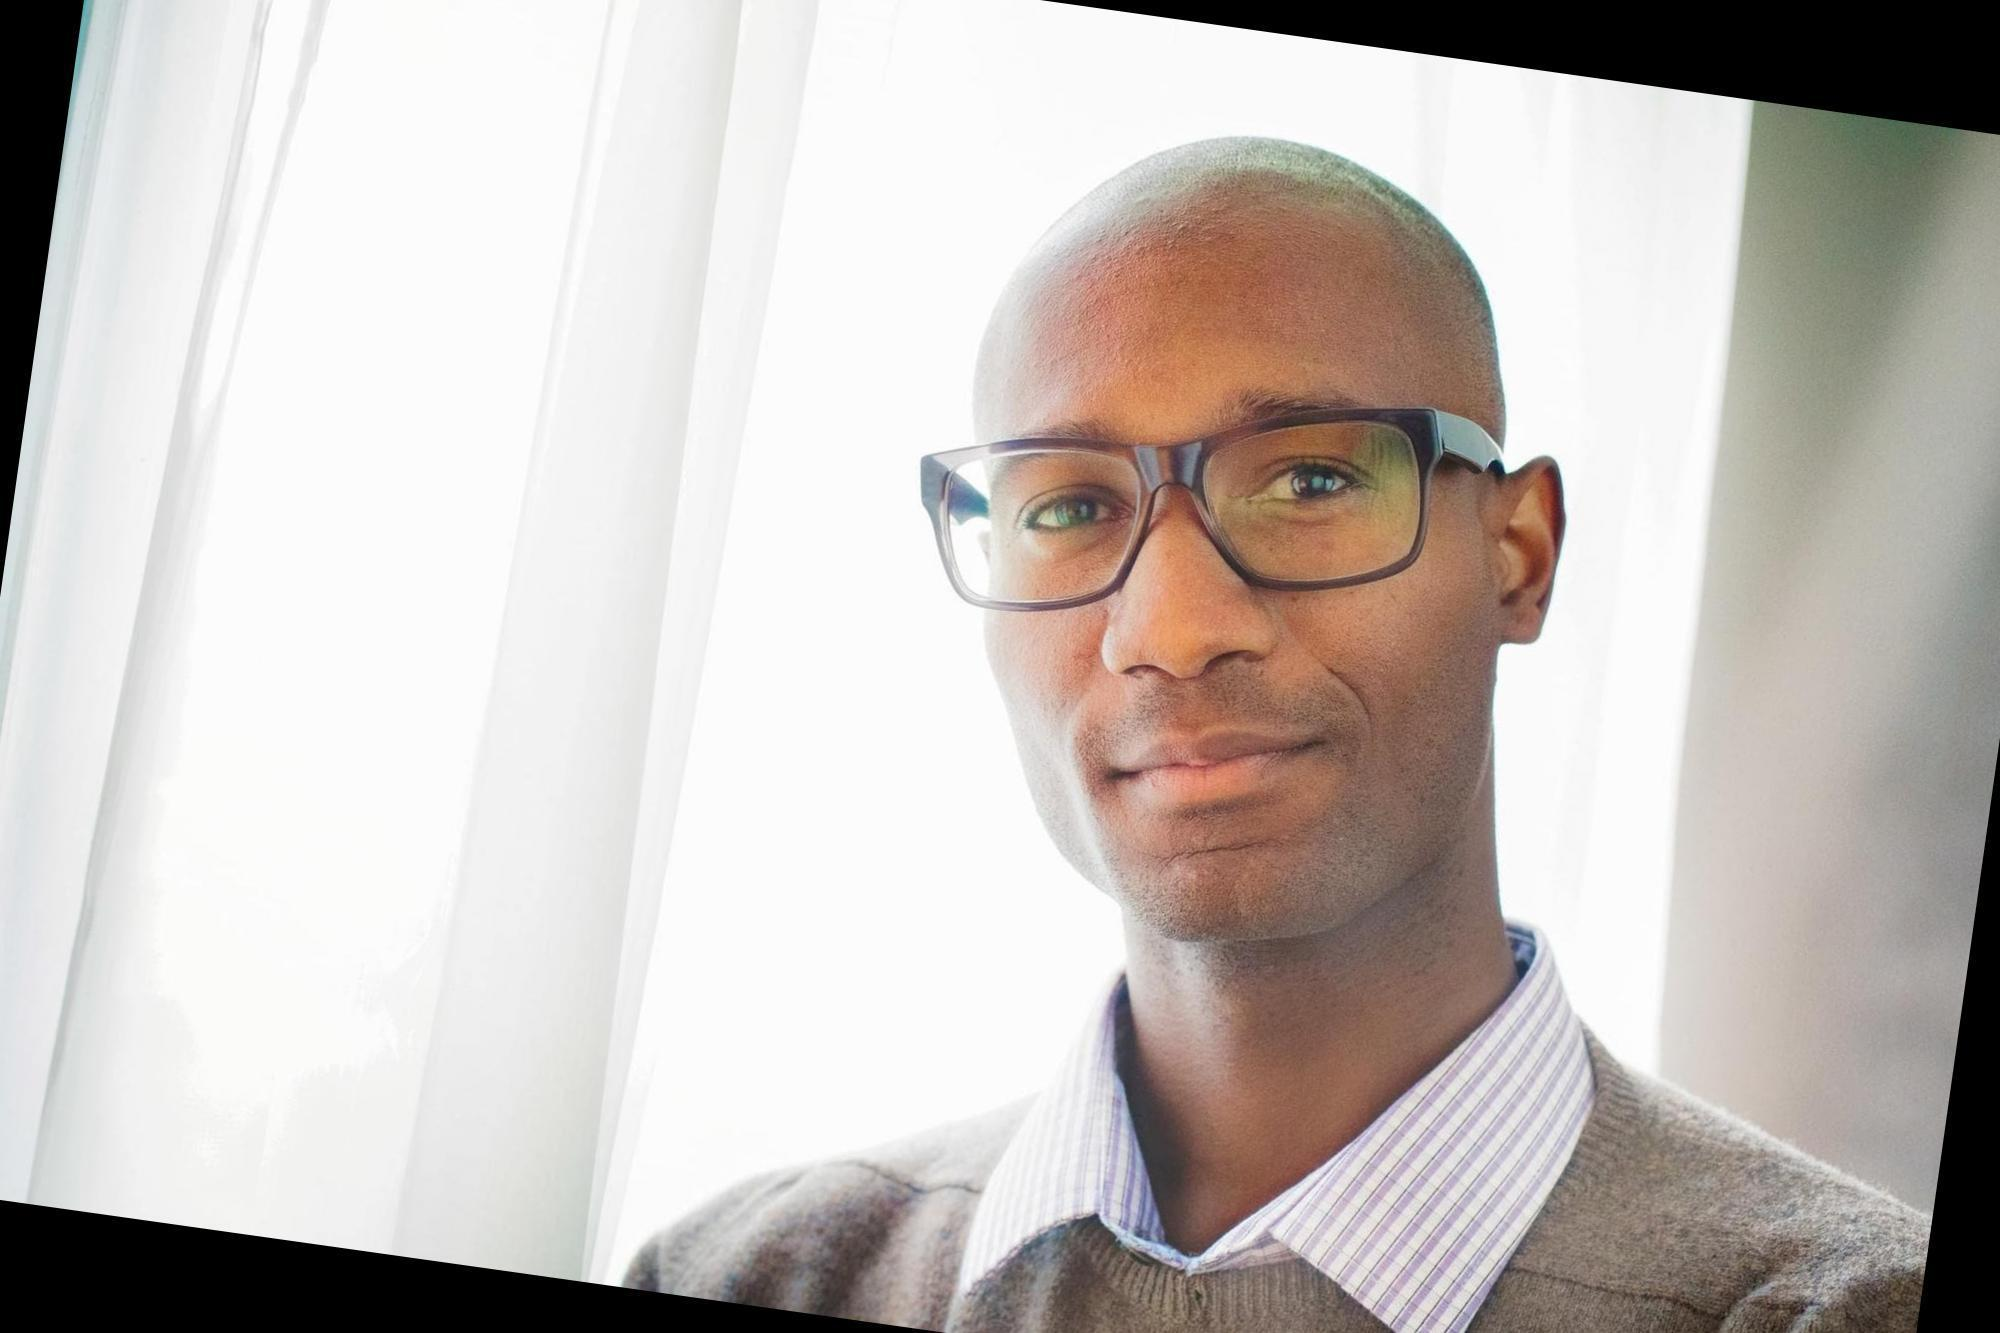Sober: (1035, 298, 1459, 893)
